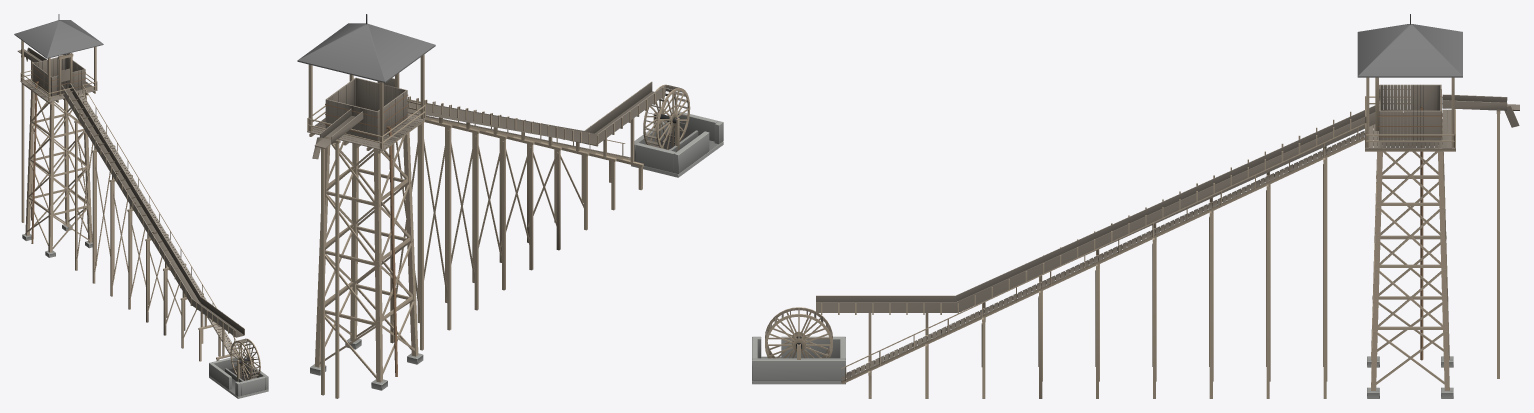
The model's file is mill_race.glb.
3 views of the same model, side by side, from view 1: azimuth 30°, elevation 25°; view 2: azimuth 150°, elevation 25°; view 3: azimuth 270°, elevation 25° (orthographic). The views are drawn at different scales.
Parts seen in each view (by area): view 1: static; view 2: static; view 3: static.
Part boxes in pixels (<box>): static: <box>14,14,268,398</box>; static: <box>297,14,723,398</box>; static: <box>752,14,1519,398</box>.
Bounding box in the file's own units: 7.4 × 29.2 × 54.
